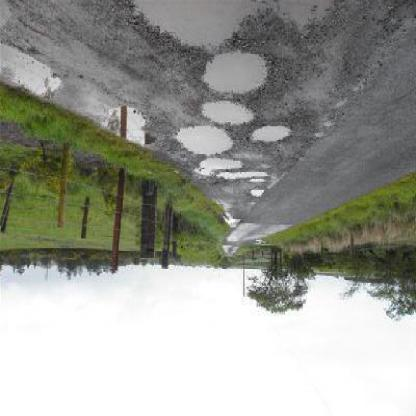pothole: (123, 4, 268, 55), (202, 54, 271, 100), (271, 3, 340, 39), (177, 127, 237, 159), (202, 101, 256, 130), (251, 126, 295, 148), (196, 159, 244, 177), (220, 172, 272, 181), (251, 190, 266, 201)
